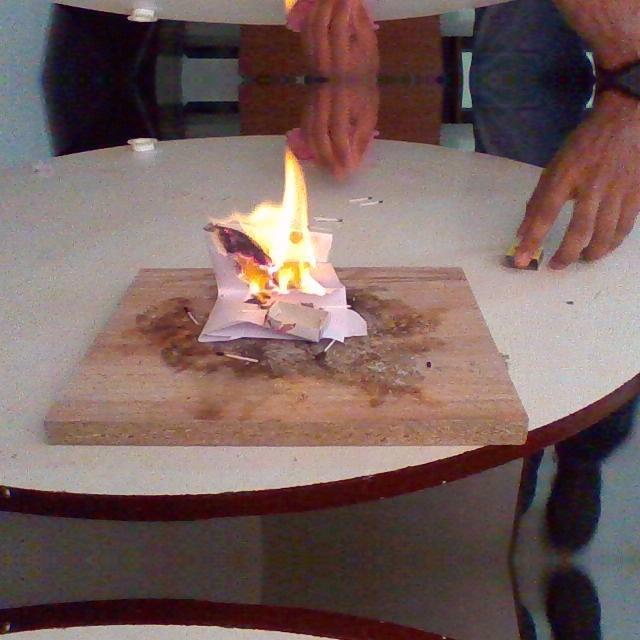smoke: (232, 146, 331, 300)
